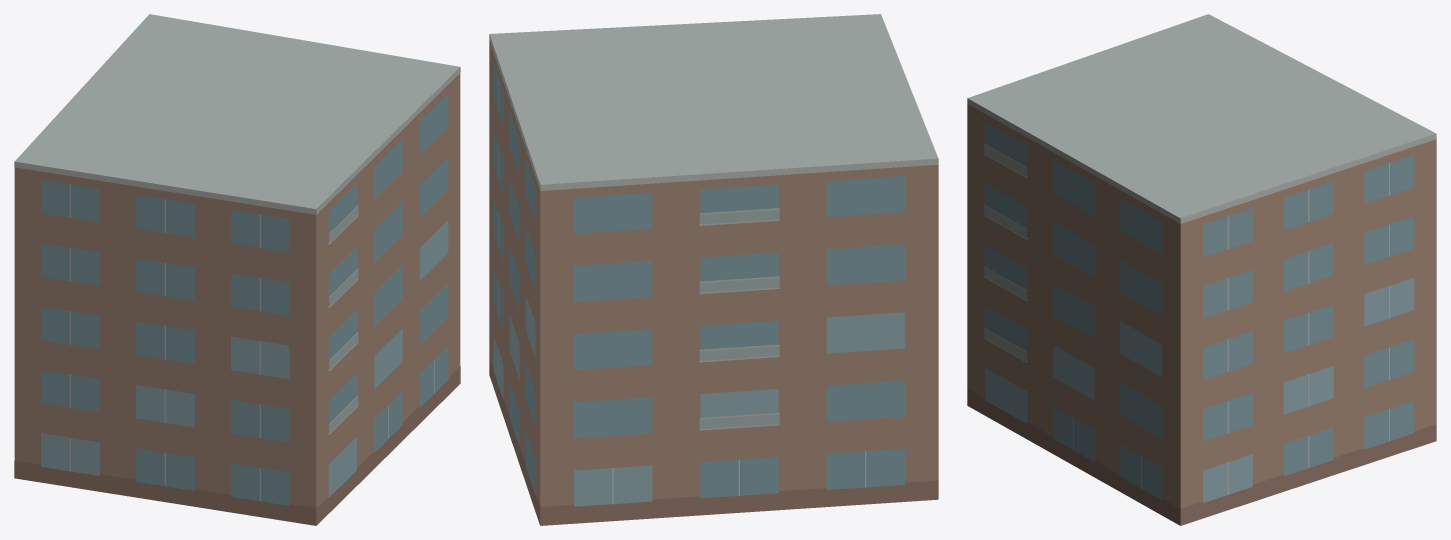
The model's file is survey-upis-32894958.glb.
3 renders of one model, left to right at view 1: azimuth 30°, elevation 25°; view 2: azimuth 150°, elevation 25°; view 3: azimuth 270°, elevation 25°, orthographic. The views are drawn at different scales.
Visible parts, largest first — view 1: survey-upis-32894958.tmp; view 2: survey-upis-32894958.tmp; view 3: survey-upis-32894958.tmp.
Boxes of the visible parts, x1,y1,x2,y2 form: survey-upis-32894958.tmp: (14, 14, 460, 525); survey-upis-32894958.tmp: (489, 14, 938, 525); survey-upis-32894958.tmp: (967, 14, 1436, 525).
Bounding box in the file's own units: 19.26 × 13.5 × 18.68.
